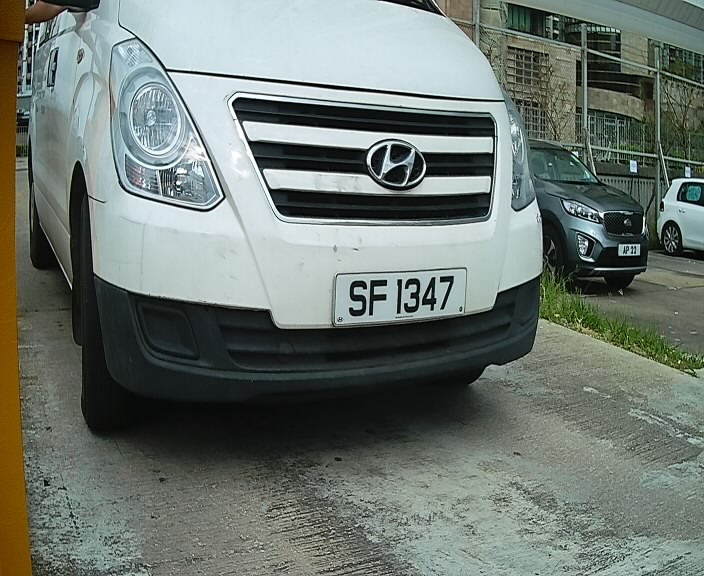Car: (29, 2, 552, 435)
License Plate: (318, 258, 481, 336)
